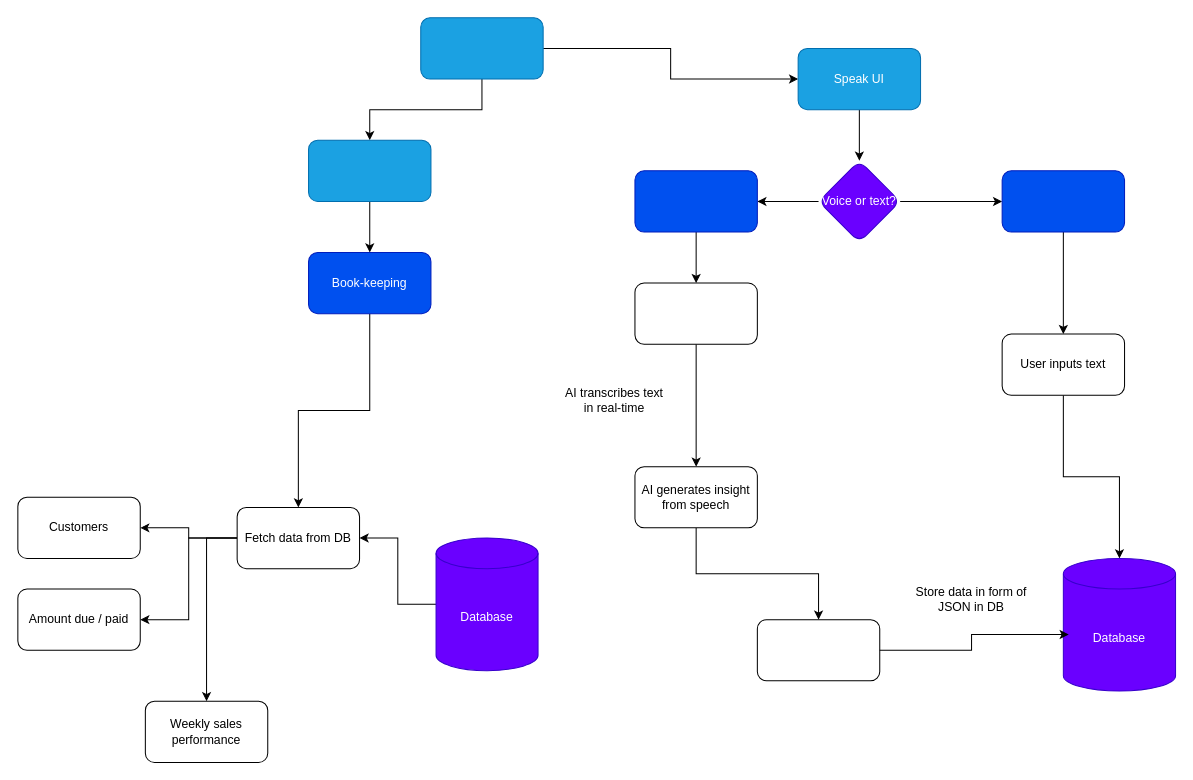
This 1193x780 diagram has some shape labels left out. Each missing label, with the centre of its shape:
"Dashboard" goes at (x=369, y=170).
"Home page" goes at (x=481, y=48).
"Insights shown to user" goes at (x=818, y=650).
"Text" goes at (x=1063, y=201).
"User speaks into microphone" goes at (x=695, y=313).
"Voice" goes at (x=695, y=201).
